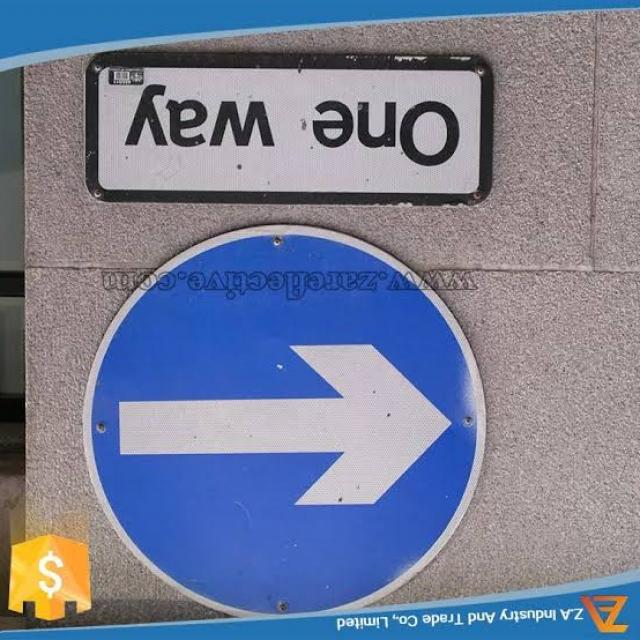Turn Right: (85, 228, 490, 621)
